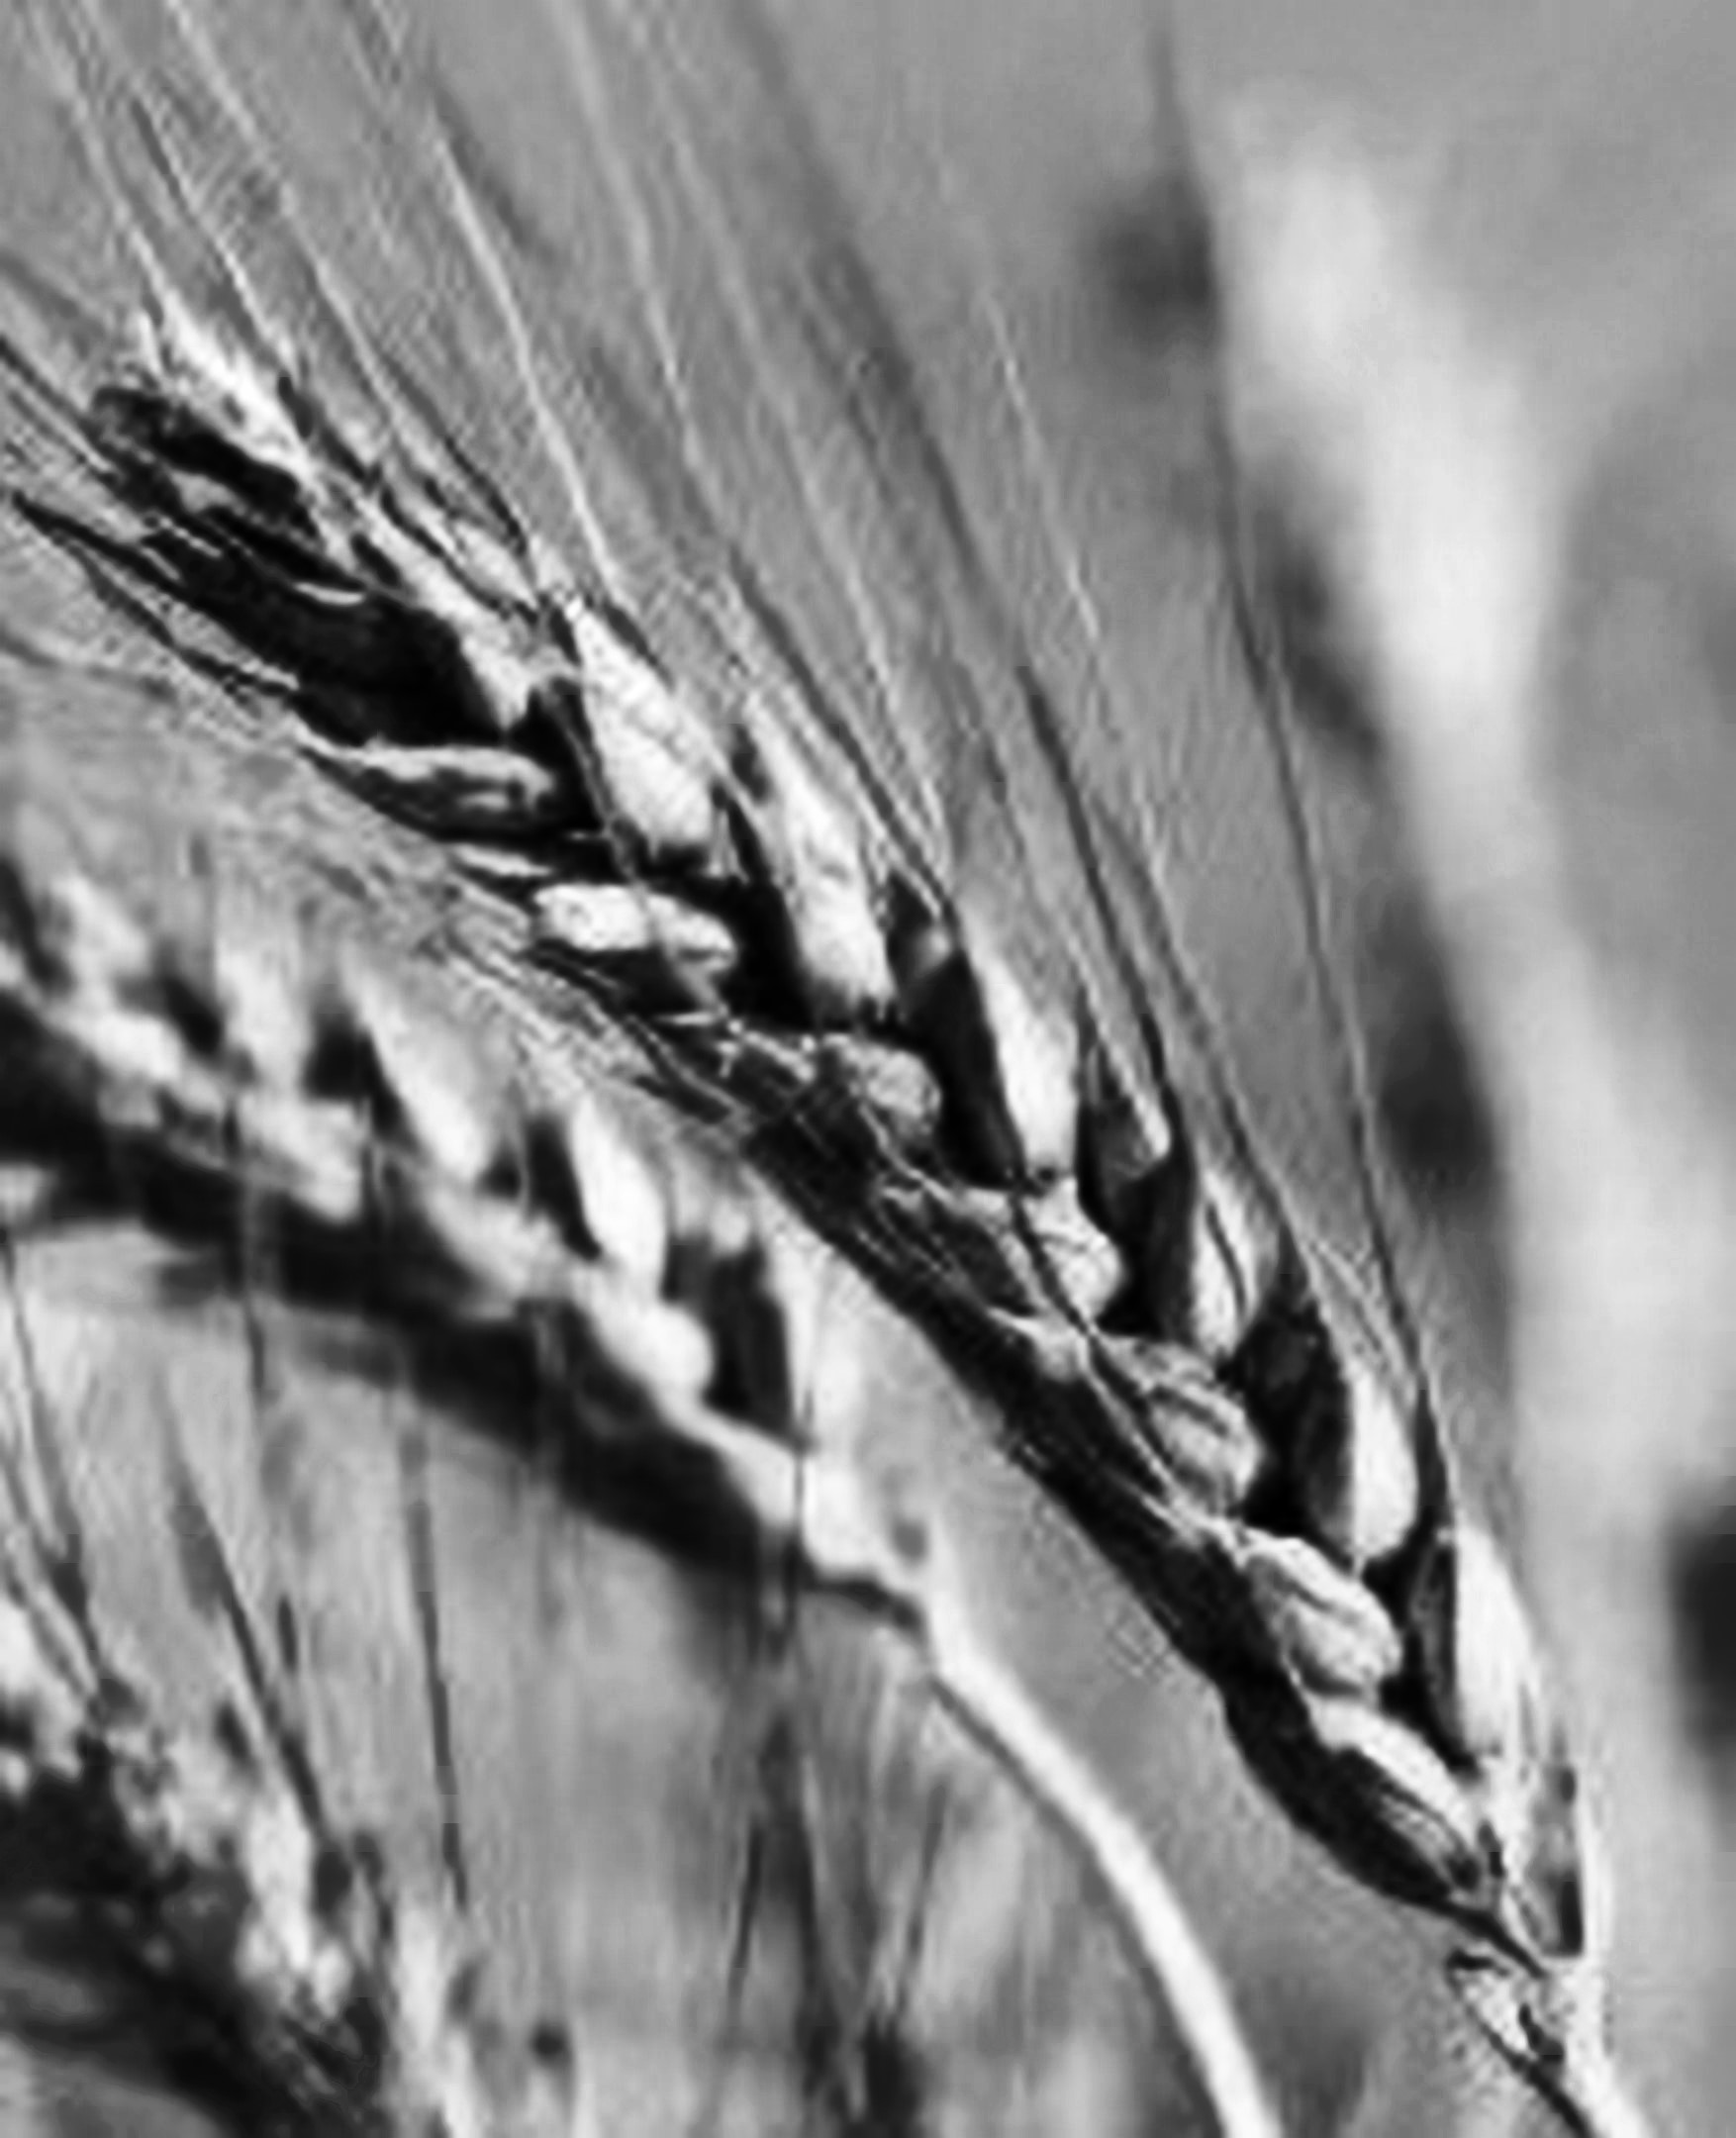Healthy Wheat: (110, 290, 1605, 1879)
